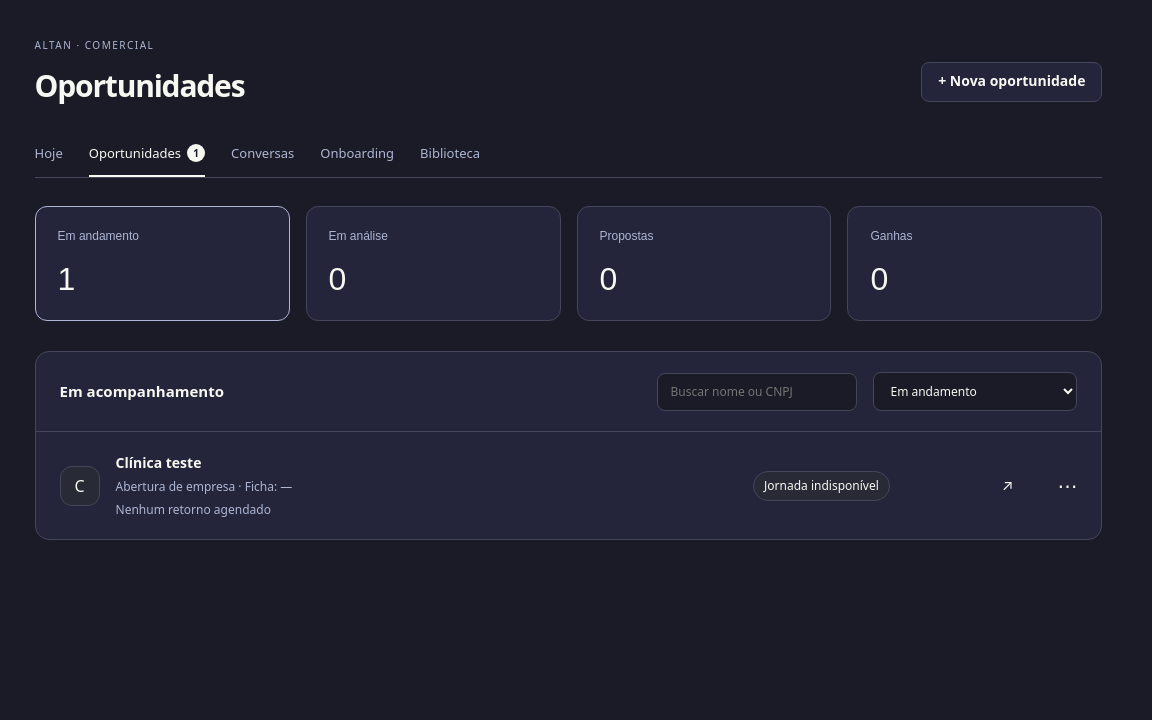
Test: busca encontra oportunidade e abre a ficha existente
Step 1. Type "clinica" into the field named "Buscar oportunidade" → [758, 392], box top-left (658, 372), bottom-right (858, 410)
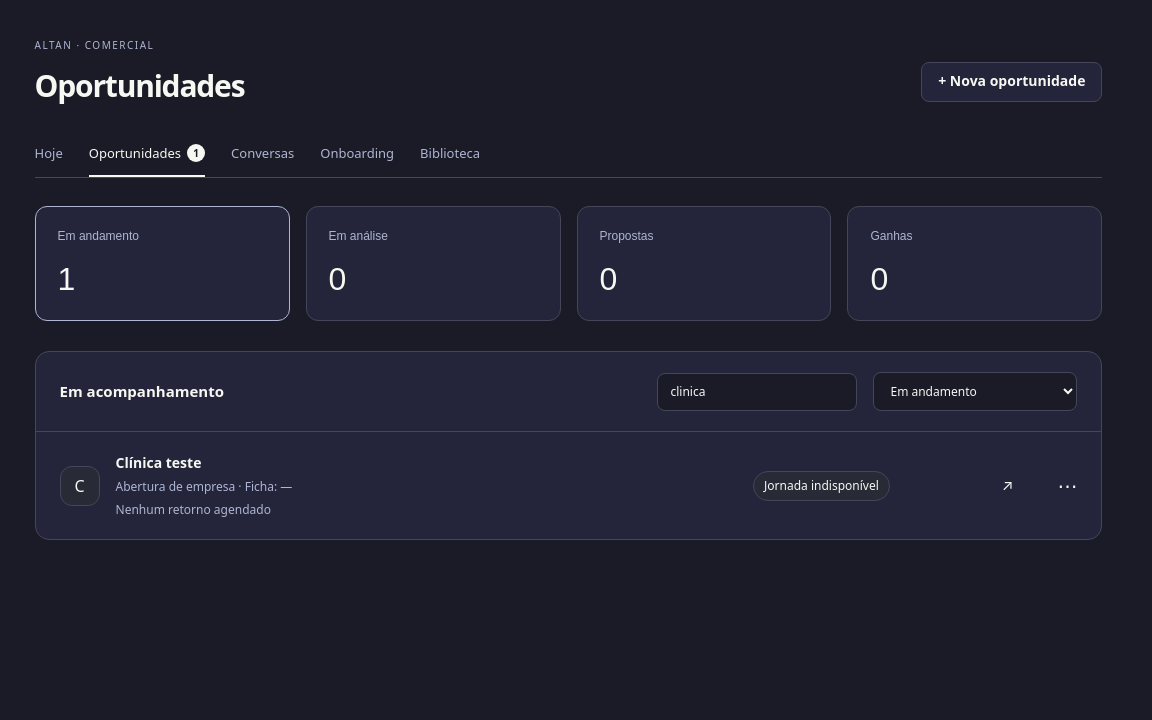
Step 2. Select "Proposta" in the dropdown named "Etapa comercial" → [976, 392], box top-left (874, 372), bottom-right (1078, 411)
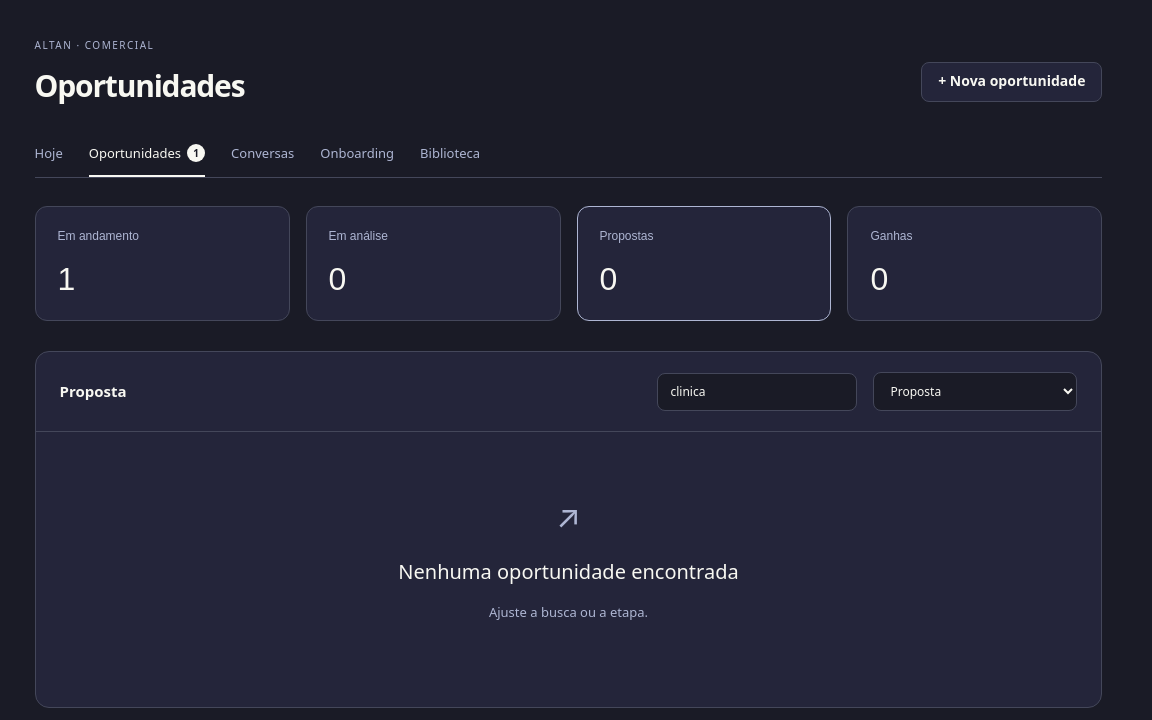
Now the heading "Nenhuma oportunidade encontrada" is shown, box top-left (398, 558), bottom-right (739, 585)
